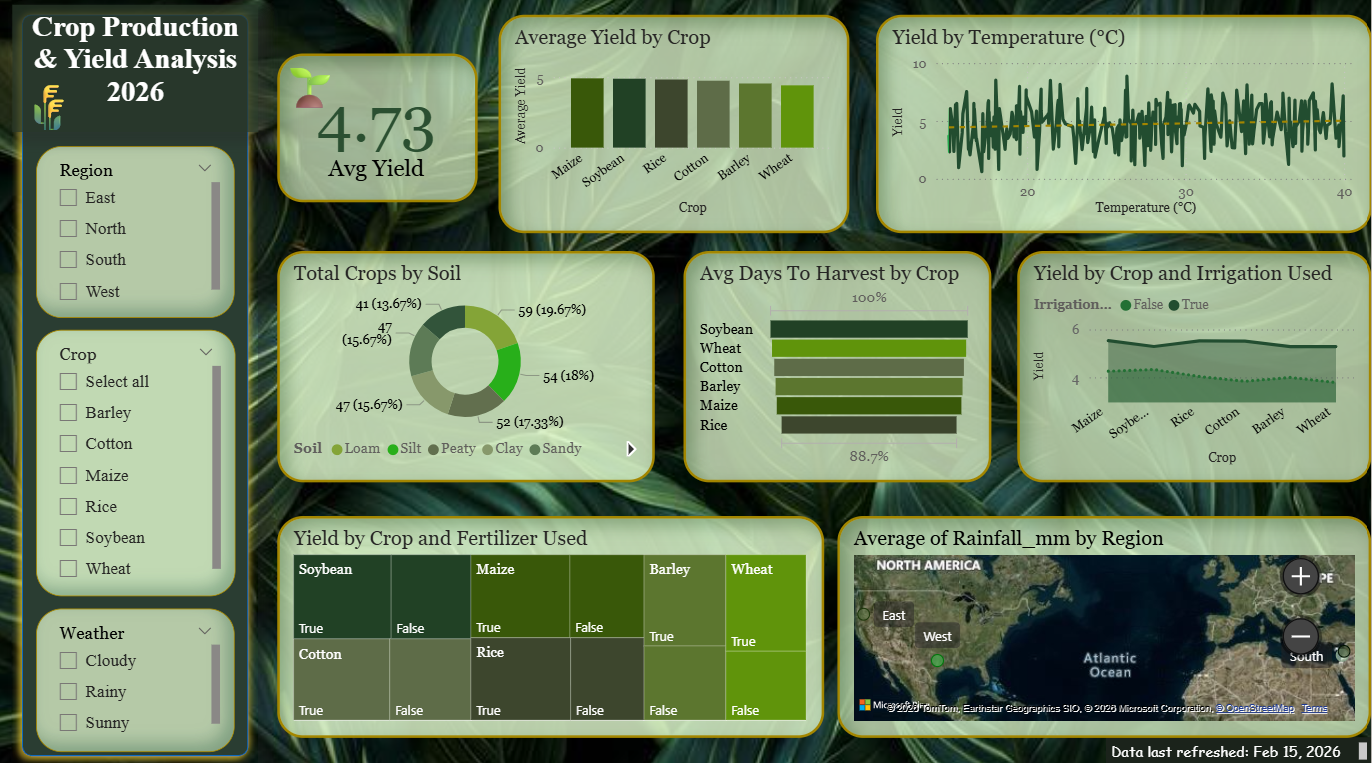

The dashboard page shown, as its layout file describes it:
{"tool":"powerbi","page":{"name":"Page 1","canvas":[1280,720],"ordinal":0},"visuals":[{"type":"shape","box":[14.7,12.2,228.7,708],"z":0},{"type":"card","fields":{"Values":["Avg(crop_yield (2).Yield_tons_per_hectare)"]},"box":[261.6,58.1,186,138.4],"z":1000},{"type":"clusteredColumnChart","fields":{"Category":["crop_yield (2).Crop"],"Y":["Avg(crop_yield (2).Yield_tons_per_hectare)"]},"box":[467.1,22,326.5,203],"z":2000},{"type":"donutChart","fields":{"Category":["crop_yield (2).Soil_Type"],"Y":["CountNonNull(crop_yield (2).Crop)"]},"box":[261.7,242.1,351,215.2],"z":3000},{"type":"areaChart","fields":{"Category":["crop_yield (2).Crop"],"Y":["Avg(crop_yield (2).Yield_tons_per_hectare)"],"Series":["crop_yield (2).Irrigation_Used"]},"box":[950.1,242.1,330.2,215.2],"z":4000},{"type":"lineChart","fields":{"Category":["crop_yield (2).Temperature_Celsius"],"Y":["Avg(crop_yield (2).Yield_tons_per_hectare)"]},"box":[818.1,22,462.2,203],"z":5000},{"type":"slicer","fields":{"Values":["crop_yield (2).Region"]},"box":[36.7,144.3,184.6,160.2],"z":6000},{"type":"slicer","fields":{"Values":["crop_yield (2).Weather_Condition"]},"box":[36.7,574.7,184.6,133.3],"z":7000},{"type":"treemap","fields":{"Group":["crop_yield (2).Crop"],"Details":["crop_yield (2).Fertilizer_Used"],"Values":["Avg(crop_yield (2).Yield_tons_per_hectare)"]},"box":[261.7,487.9,508.7,206.7],"z":8000},{"type":"funnel","fields":{"Category":["crop_yield (2).Crop"],"Y":["Avg(crop_yield (2).Days_to_Harvest)"]},"box":[639.5,242.1,286.1,215.2],"z":9000},{"type":"textbox","box":[15.1,12.8,229.1,118.6],"z":10000},{"type":"textbox","box":[1032.1,694.6,248.2,25.7],"z":11000},{"type":"slicer","fields":{"Values":["crop_yield (2).Crop"]},"box":[36.7,315.5,185.9,248.2],"z":12000},{"type":"map","fields":{"Size":["Avg(crop_yield (2).Rainfall_mm)"],"Category":["crop_yield (2).Region"]},"box":[782.6,487.9,497.7,206.7],"z":13000},{"type":"textbox","box":[15.1,72.1,72.1,72.1],"z":14000},{"type":"textbox","box":[261.6,58.1,186,59.3],"z":15000}]}

Visuals, with their boxes in screenshot pixels (x1, y1, x2, y2), scaled from the page's 1280x720 canvas onto the 1372x763 screenshot:
shape: <region>16, 13, 261, 762</region>
card - Avg(crop_yield (2).Yield_tons_per_hectare): <region>280, 62, 480, 208</region>
clusteredColumnChart - crop_yield (2).Crop x Avg(crop_yield (2).Yield_tons_per_hectare): <region>501, 23, 851, 238</region>
donutChart - crop_yield (2).Soil_Type x CountNonNull(crop_yield (2).Crop): <region>281, 257, 657, 485</region>
areaChart - crop_yield (2).Crop x Avg(crop_yield (2).Yield_tons_per_hectare): <region>1018, 257, 1371, 485</region>
lineChart - crop_yield (2).Temperature_Celsius x Avg(crop_yield (2).Yield_tons_per_hectare): <region>877, 23, 1371, 238</region>
slicer - crop_yield (2).Region: <region>39, 153, 237, 323</region>
slicer - crop_yield (2).Weather_Condition: <region>39, 609, 237, 750</region>
treemap - crop_yield (2).Crop x crop_yield (2).Fertilizer_Used: <region>281, 517, 826, 736</region>
funnel - crop_yield (2).Crop x Avg(crop_yield (2).Days_to_Harvest): <region>685, 257, 992, 485</region>
textbox: <region>16, 14, 262, 139</region>
textbox: <region>1106, 736, 1371, 762</region>
slicer - crop_yield (2).Crop: <region>39, 334, 239, 597</region>
map - Avg(crop_yield (2).Rainfall_mm) x crop_yield (2).Region: <region>839, 517, 1371, 736</region>
textbox: <region>16, 76, 93, 153</region>
textbox: <region>280, 62, 480, 124</region>
